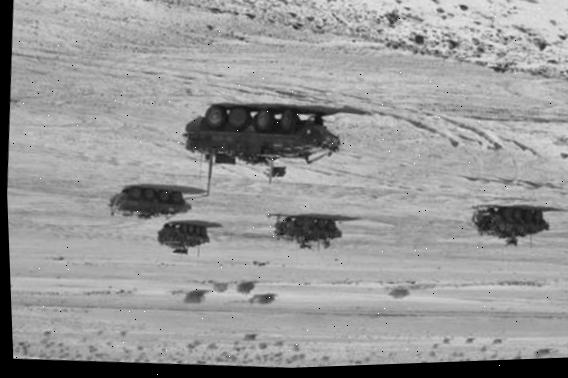armored_car: (177, 93, 354, 177), (468, 196, 557, 248), (103, 180, 196, 226), (268, 209, 349, 254), (153, 217, 216, 258)
